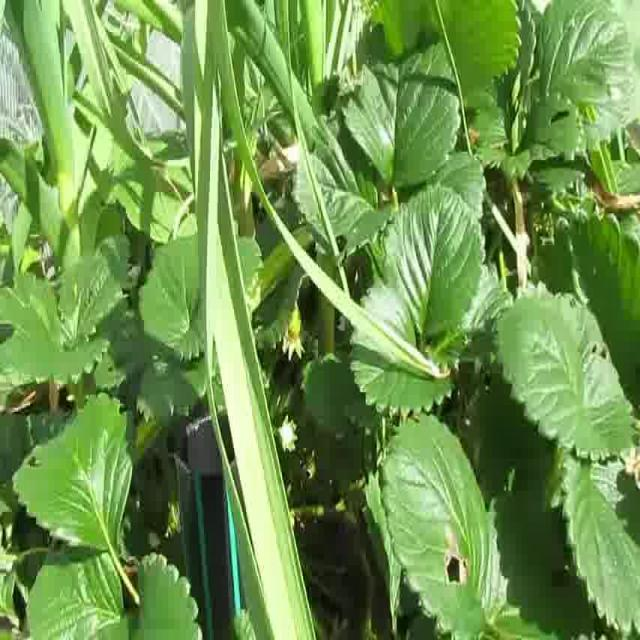Fruta sana: (288, 293, 302, 340)
